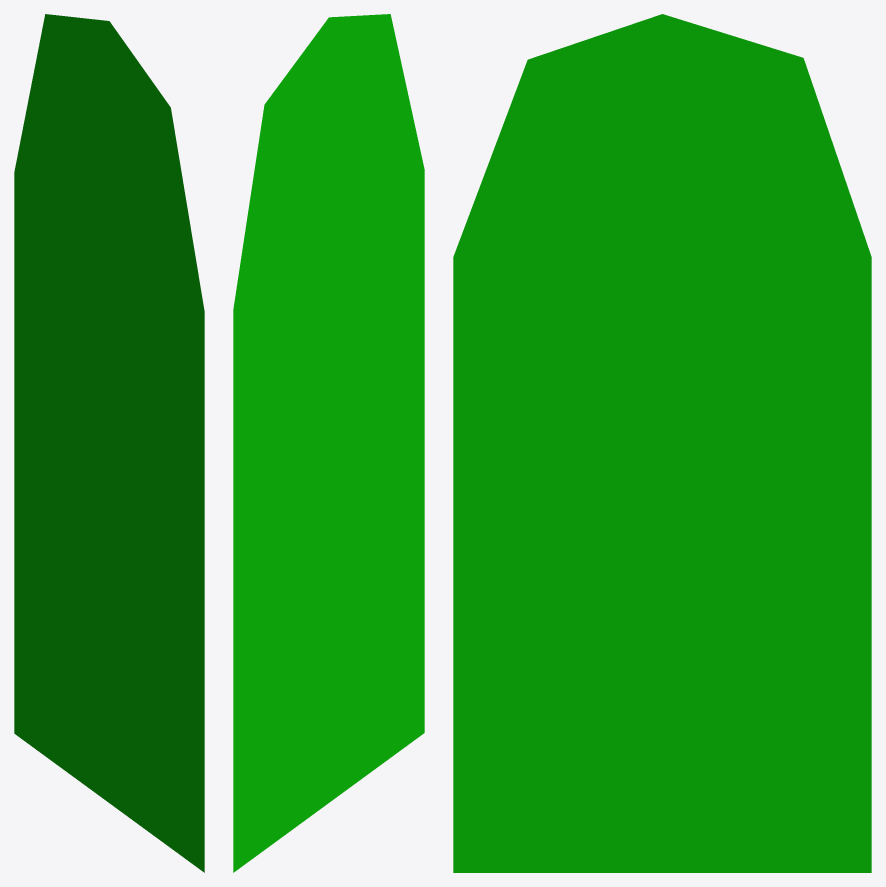
Rendered from Cathedral_Window.fbx.
The picture shows the model from 3 angles, left to right: view 1: azimuth 30°, elevation 25°; view 2: azimuth 150°, elevation 25°; view 3: azimuth 270°, elevation 25°; orthographic projection. The views are drawn at different scales.
Parts seen in each view (by area): view 1: Plane.002; view 2: Plane.002; view 3: Plane.002.
Part boxes in pixels (x1=…): Plane.002: x1=14, y1=14, x2=204, y2=872; Plane.002: x1=233, y1=14, x2=424, y2=872; Plane.002: x1=453, y1=14, x2=871, y2=872.
Bounding box in the file's own units: 0.00202 × 13261 × 5852.
